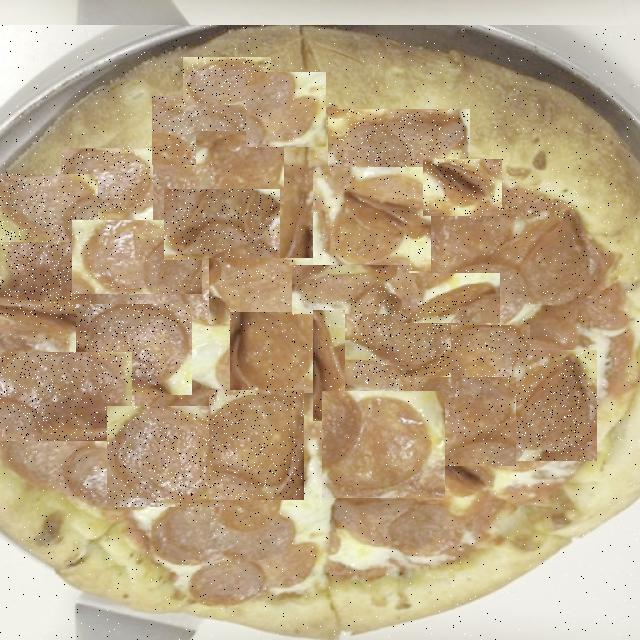Pepperoni: (439, 218, 586, 330), (322, 391, 445, 498), (313, 167, 431, 271), (0, 352, 132, 441), (107, 406, 223, 507), (210, 390, 306, 500), (76, 304, 192, 395), (399, 377, 516, 466), (328, 109, 470, 177), (72, 220, 202, 294), (353, 301, 466, 385), (512, 350, 597, 461), (466, 188, 578, 264), (164, 189, 280, 260), (165, 333, 266, 411), (230, 312, 323, 393), (209, 258, 316, 324), (152, 96, 254, 165), (0, 174, 98, 242), (61, 148, 153, 220), (196, 131, 284, 204), (0, 240, 80, 318), (451, 325, 530, 403), (246, 72, 326, 147), (292, 265, 409, 314), (402, 274, 500, 324), (423, 159, 502, 216), (183, 57, 271, 105), (313, 310, 345, 421)
Pizza: (0, 25, 640, 640)
